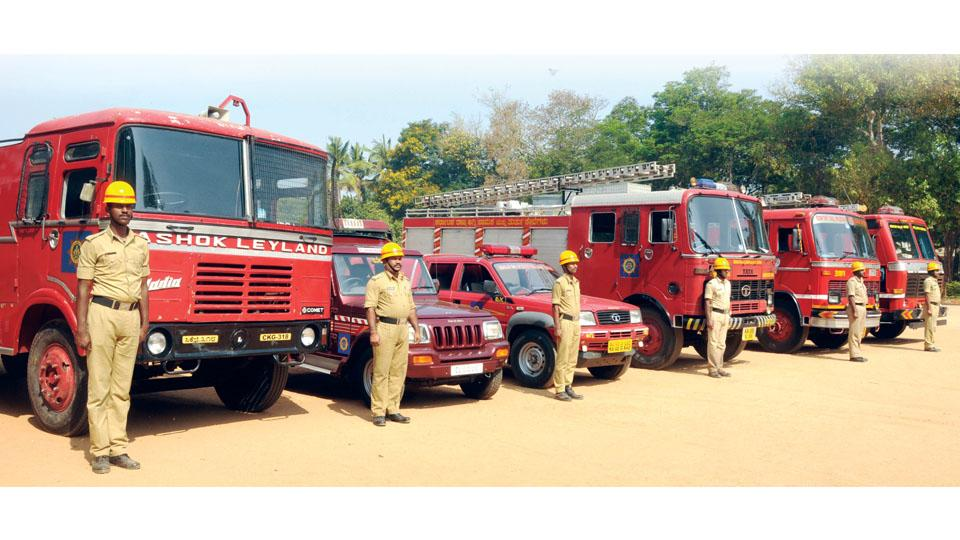Fire-engine: (8, 111, 374, 443), (411, 190, 753, 360), (752, 166, 898, 358), (852, 154, 960, 371)
